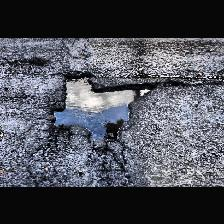pothole: (50, 70, 156, 144)
